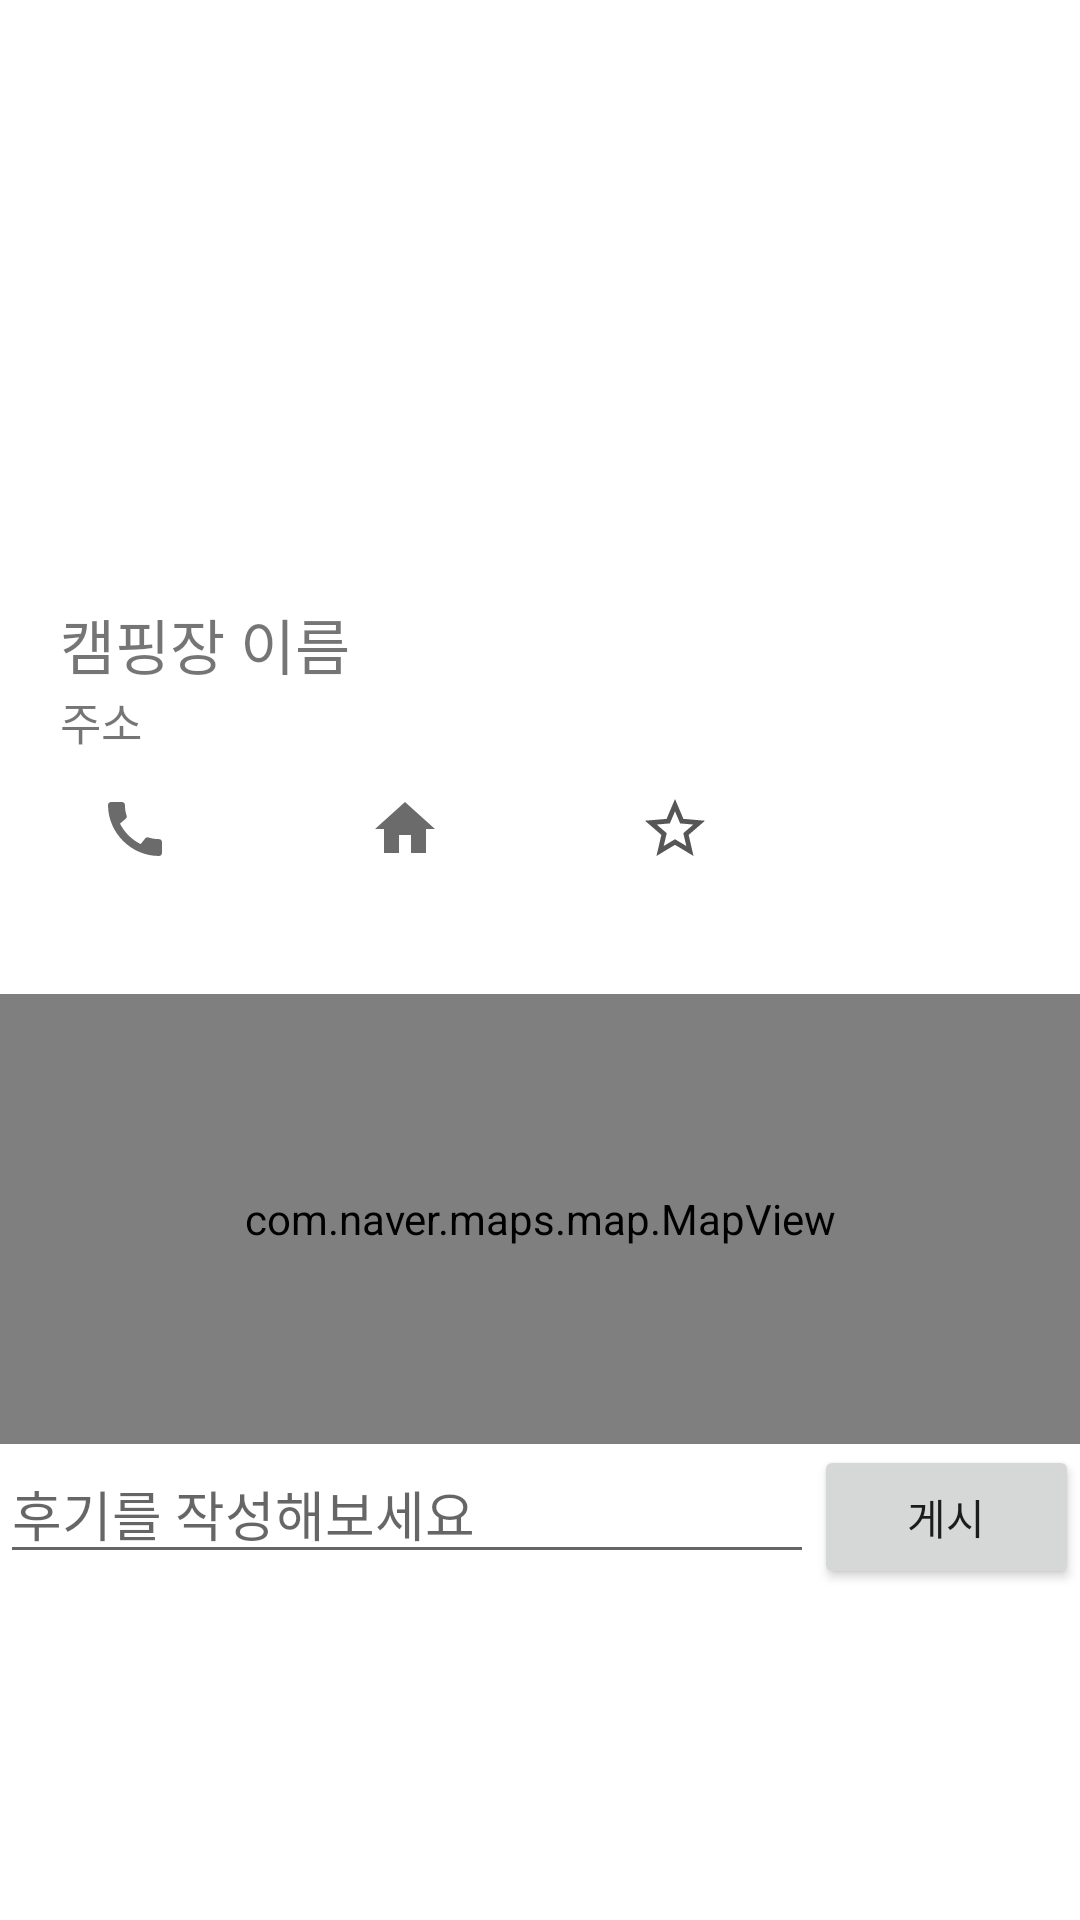

Icon bounding boxes for this 1080px×1920px phone screenshot, format (x1, y1, x2, y2):
call: (108, 802, 162, 856)
home: (375, 802, 435, 853)
star: (645, 799, 705, 856)
